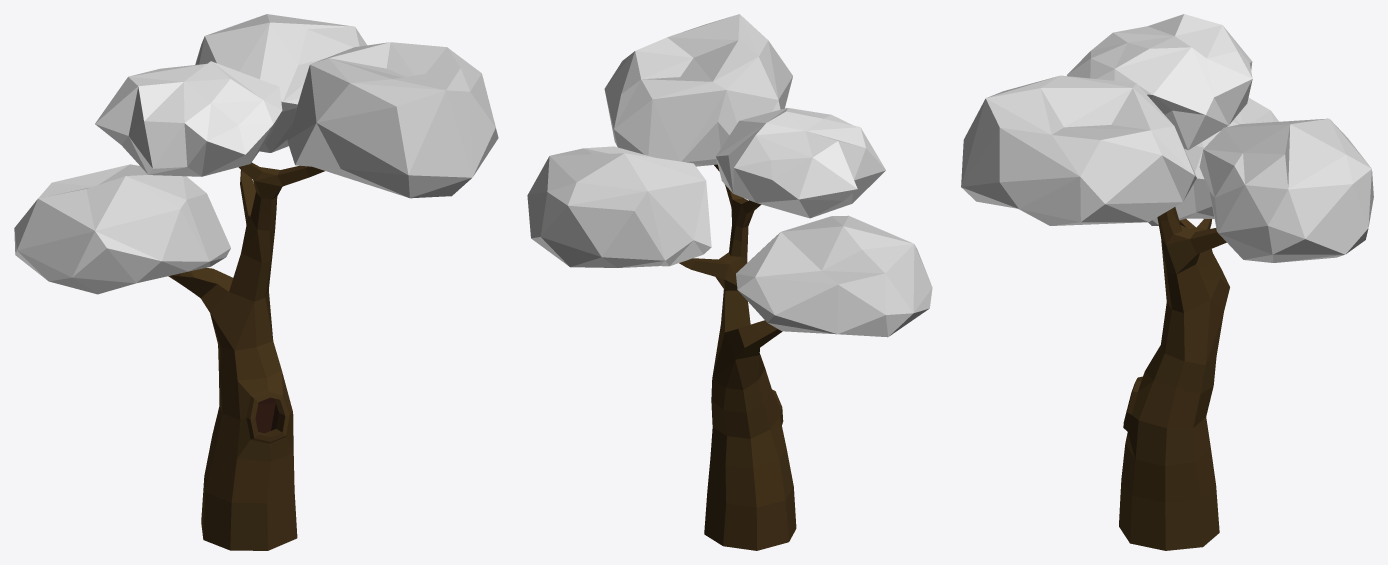
File: Tree2.fbx
3 views of the same model, side by side, from view 1: azimuth 30°, elevation 25°; view 2: azimuth 150°, elevation 25°; view 3: azimuth 270°, elevation 25° (orthographic). The views are drawn at different scales.
Parts seen in each view (by area): view 1: Tree1_Base, Tree1_Leaf1, Tree1_Leaf3, Tree1_Leaf0, Tree1_Leaf2; view 2: Tree1_Base, Tree1_Leaf1, Tree1_Leaf2, Tree1_Leaf3, Tree1_Leaf0; view 3: Tree1_Leaf1, Tree1_Base, Tree1_Leaf2, Tree1_Leaf0, Tree1_Leaf3.
Part boxes in pixels (x1=…): Tree1_Base: x1=168, y1=162, x2=324, y2=550; Tree1_Leaf1: x1=287, y1=42, x2=498, y2=198; Tree1_Leaf3: x1=14, y1=164, x2=230, y2=294; Tree1_Leaf0: x1=95, y1=61, x2=282, y2=176; Tree1_Leaf2: x1=195, y1=14, x2=366, y2=152; Tree1_Base: x1=679, y1=164, x2=796, y2=550; Tree1_Leaf1: x1=604, y1=14, x2=792, y2=166; Tree1_Leaf2: x1=527, y1=146, x2=711, y2=267; Tree1_Leaf3: x1=736, y1=215, x2=932, y2=337; Tree1_Leaf0: x1=716, y1=108, x2=885, y2=218; Tree1_Leaf1: x1=961, y1=75, x2=1196, y2=225; Tree1_Base: x1=1119, y1=207, x2=1229, y2=550; Tree1_Leaf2: x1=1199, y1=118, x2=1373, y2=262; Tree1_Leaf0: x1=1067, y1=14, x2=1252, y2=150; Tree1_Leaf3: x1=1148, y1=98, x2=1278, y2=225.
Size of the model in its own units: 173 by 198 by 154.
